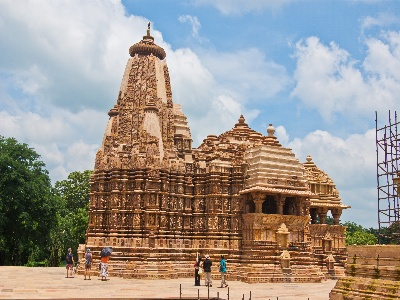amalaka: (120, 39, 177, 63)
gopuram: (108, 53, 184, 146)
mandapa: (238, 181, 311, 219), (304, 200, 352, 229)
